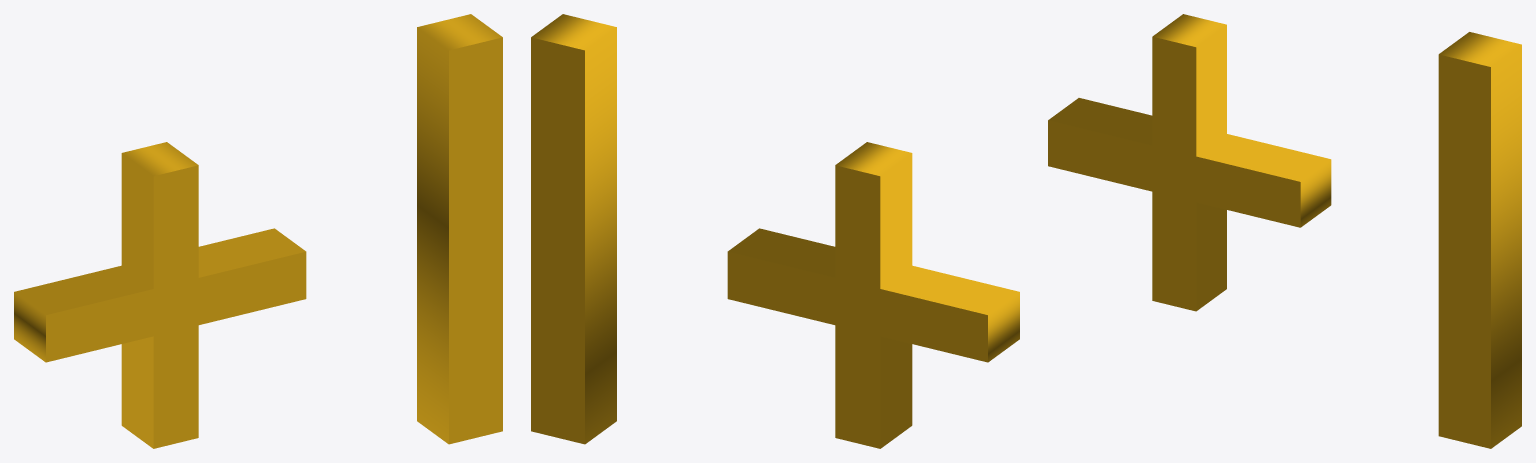
File: plusOne.glb
The picture shows the model from 3 angles, left to right: view 1: azimuth 30°, elevation 25°; view 2: azimuth 150°, elevation 25°; view 3: azimuth 330°, elevation 25°; orthographic projection. The views are drawn at different scales.
Parts seen in each view (by area): view 1: Text; view 2: Text; view 3: Text.
Part boxes in pixels (x1,y1,x2,y2): Text: [14, 14, 502, 448]; Text: [531, 14, 1019, 448]; Text: [1048, 14, 1521, 448].
Size of the model in its own units: 0.828 by 0.682 by 0.1.
